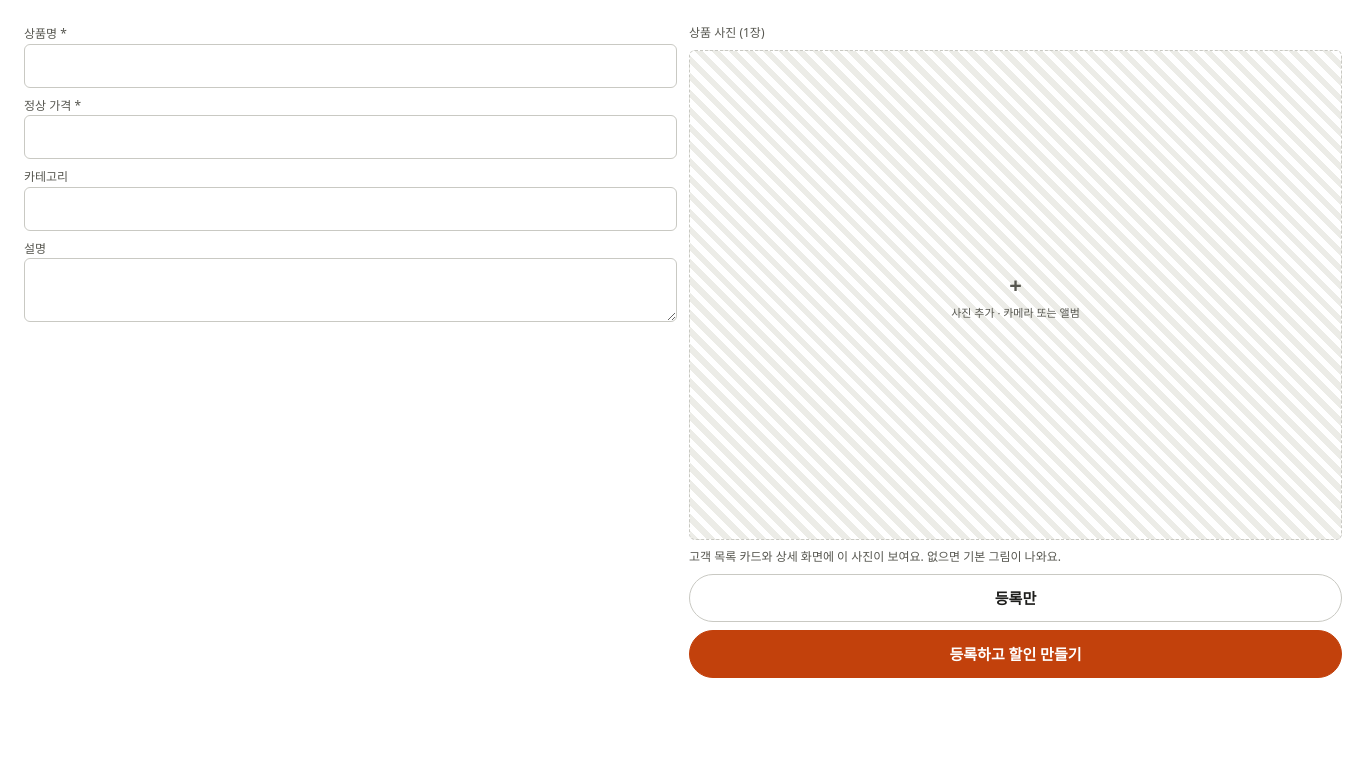
Test case: features/products presentation ProductCreateForm › 제출 중에는 모바일·데스크톱 4개 버튼이 모두 「처리 중…」·aria-disabled다
This screenshot has width=1366, height=768.
Type "식빵" into the field labelled "상품명 *" at (350, 66), box [24,44,677,88]
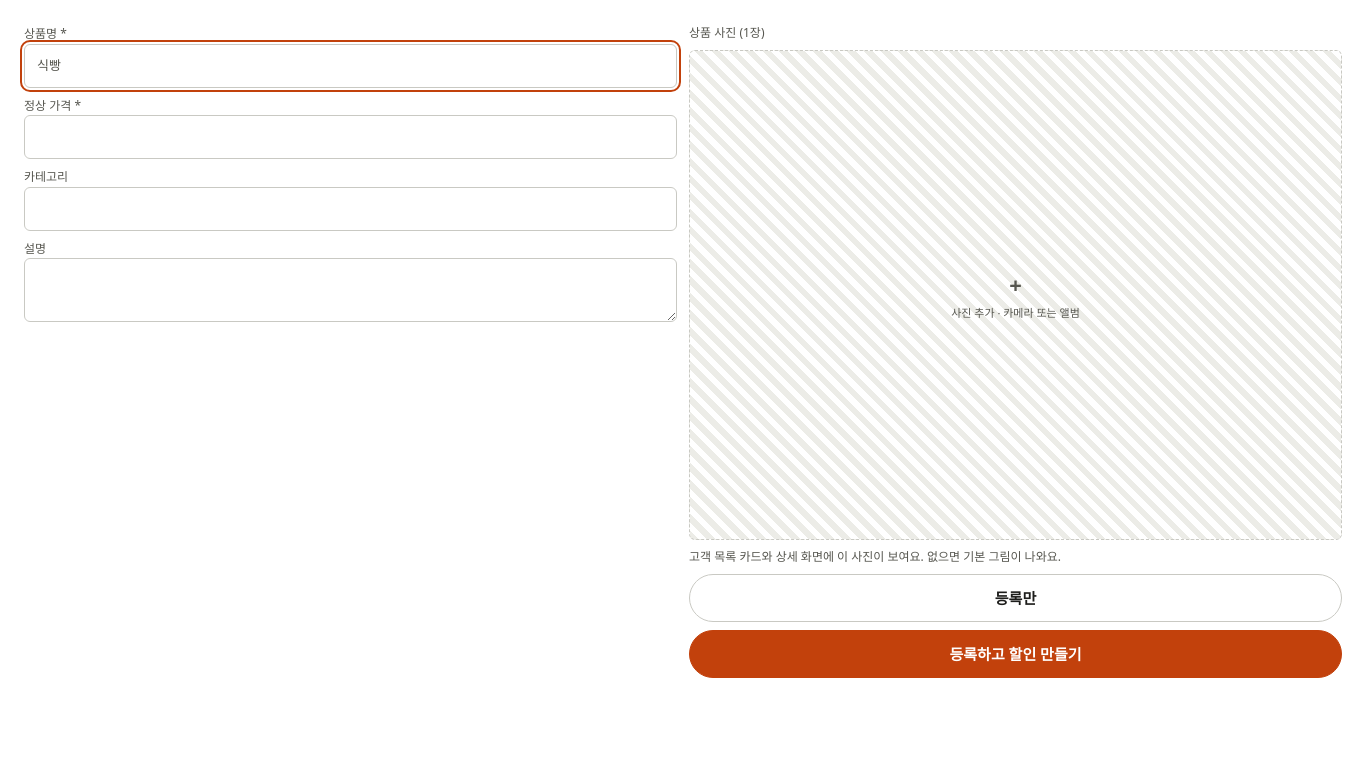
Type "12000" into the field labelled "정상 가격 *" at (350, 137), box [24,115,677,159]
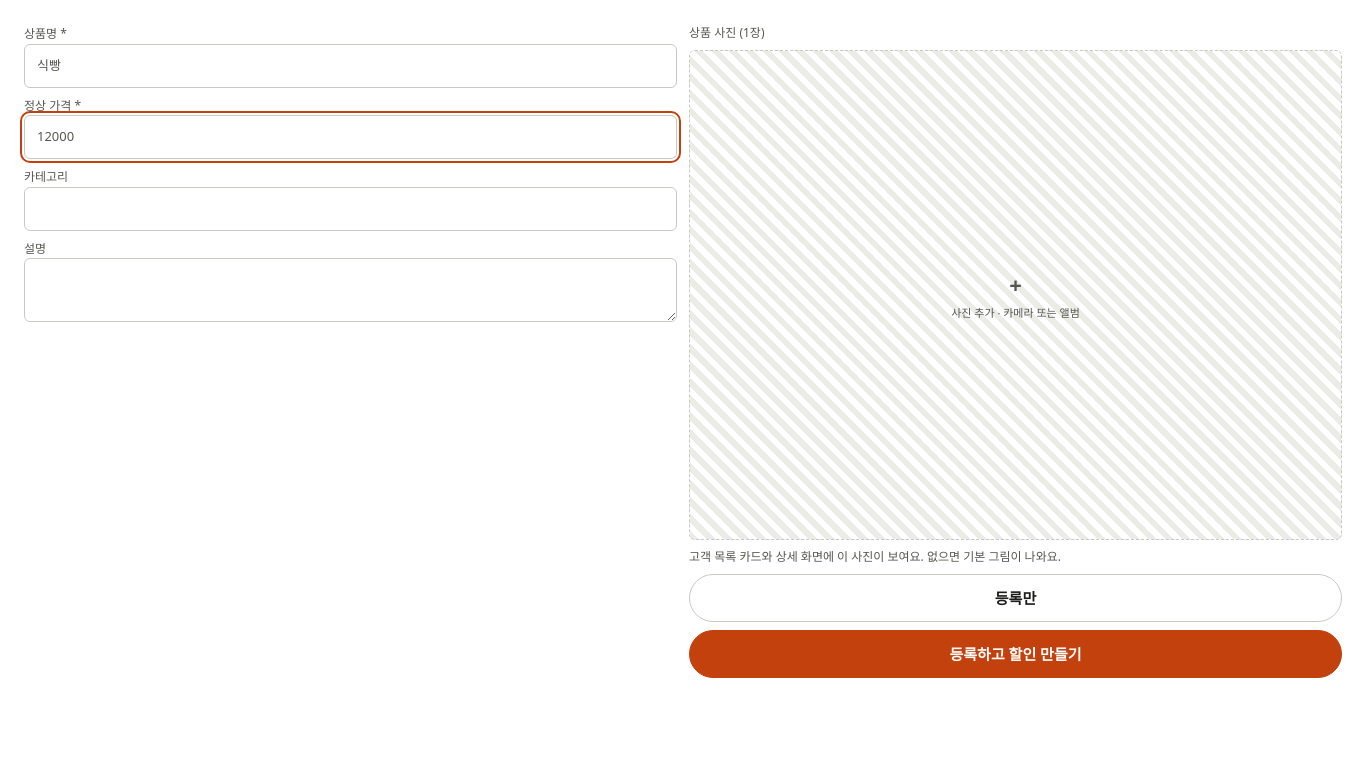
Click the button "등록만" at (1016, 598), box [689,574,1342,622]
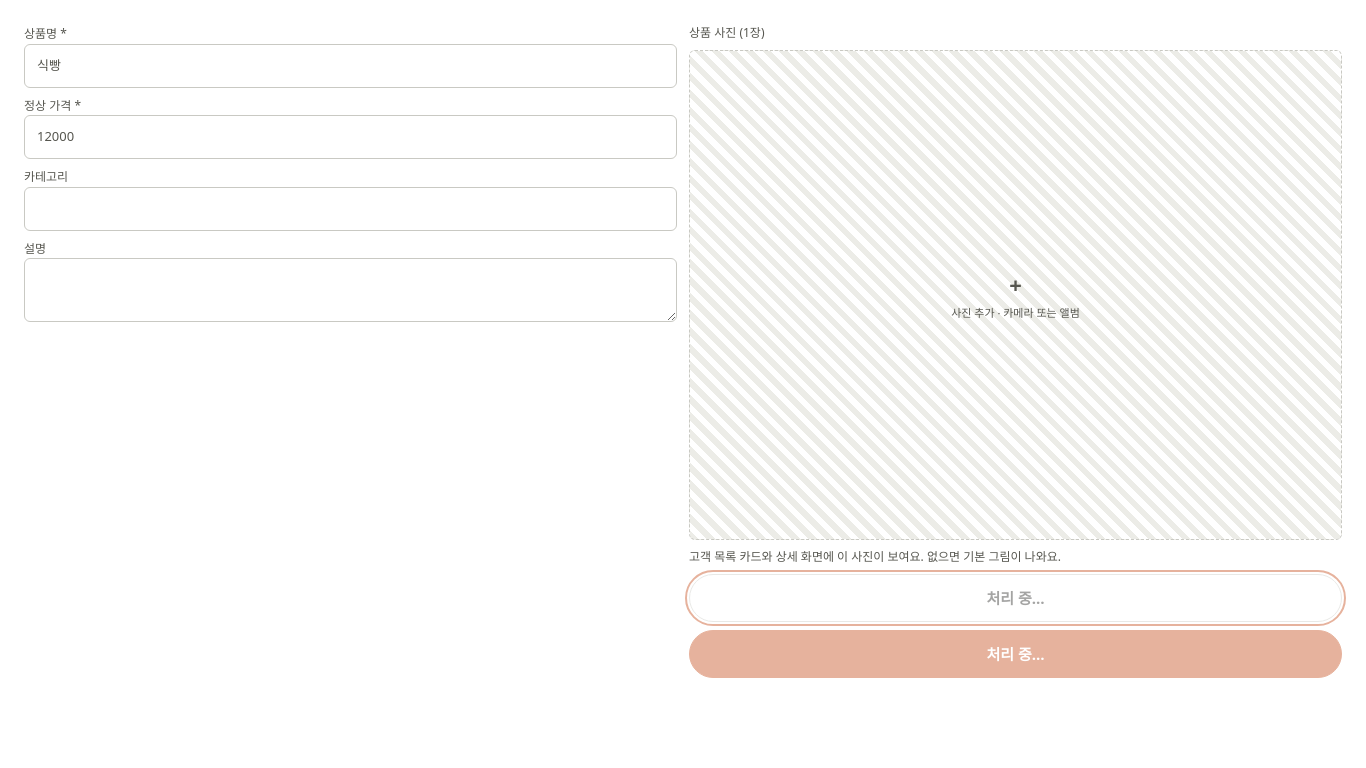
Expected: the 1st button "처리 중…" is shown, [689,574,1342,622]
Expected: the 2nd button "처리 중…" is shown, [689,630,1342,678]
